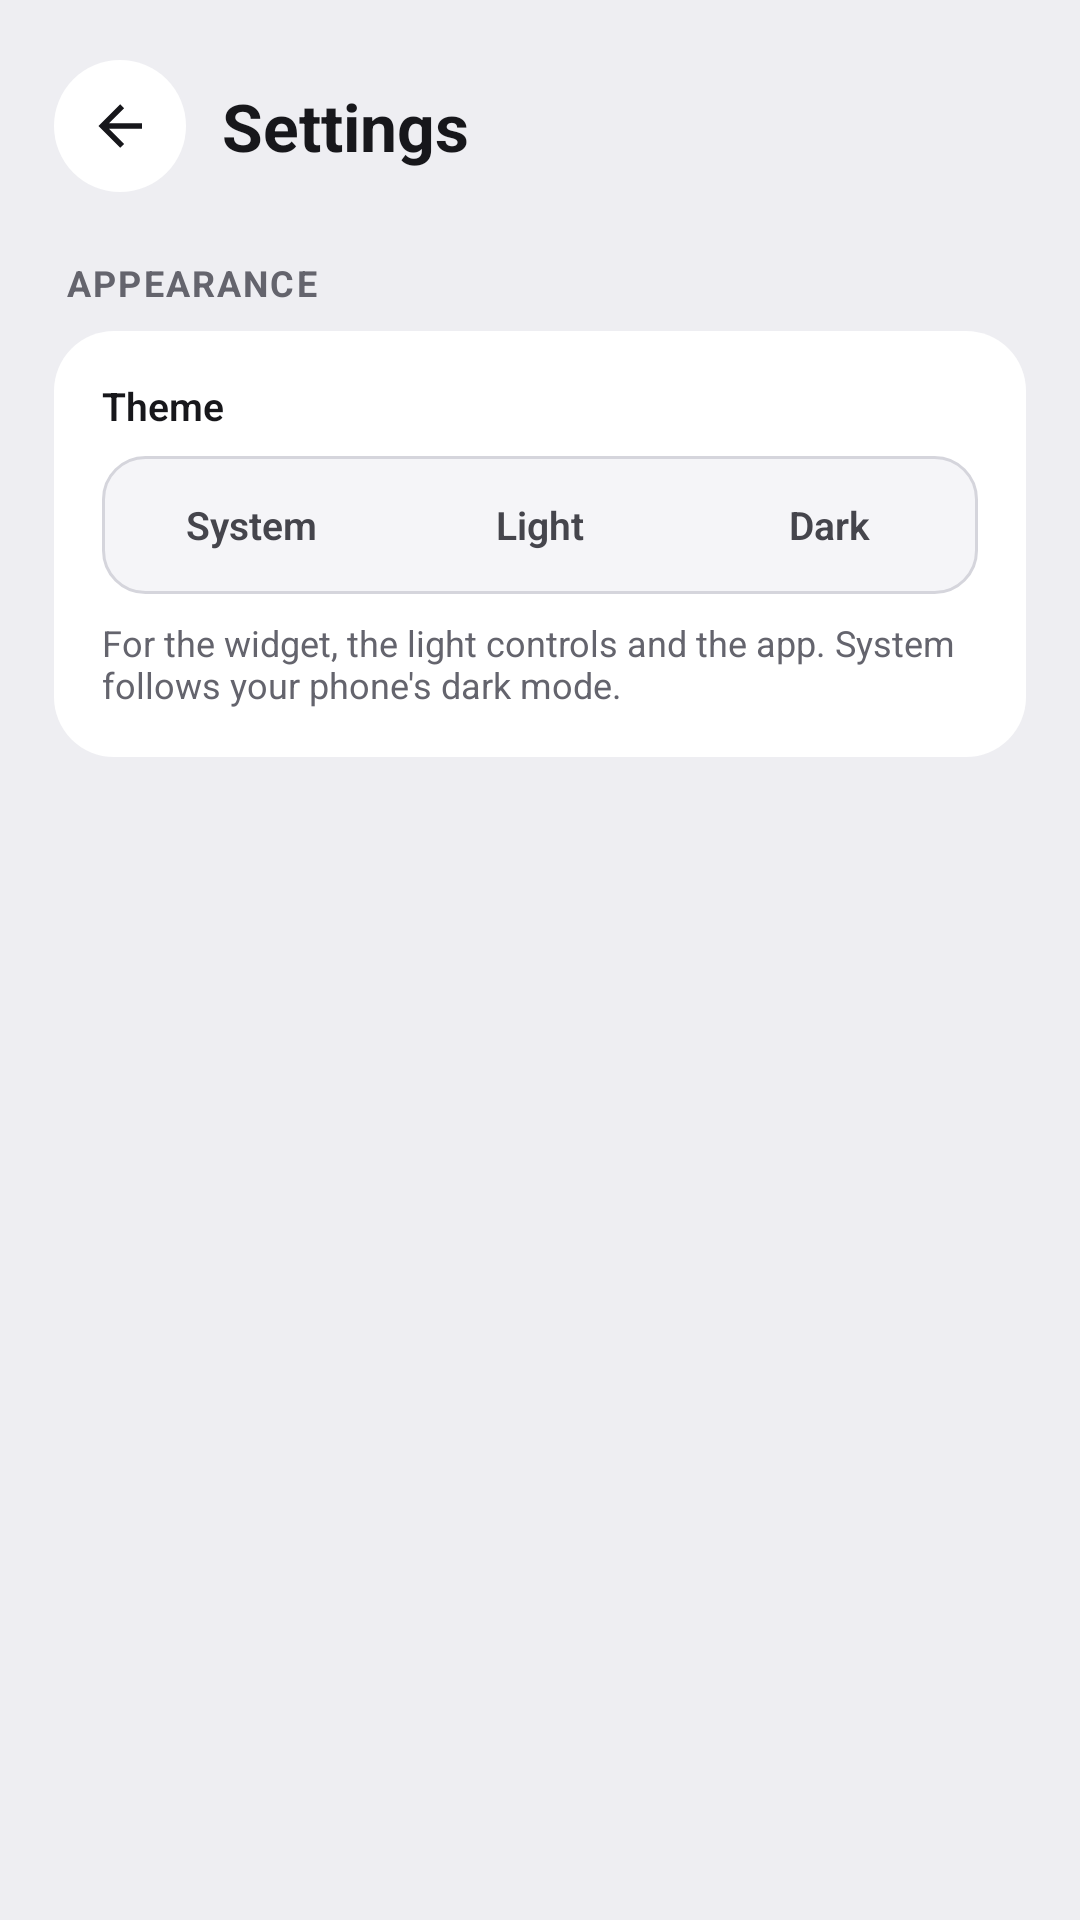

Screen size 1080x1920. Icon name, then its box in pixels as (x1, y1, x2, y2):
Back: (54, 60, 186, 192)
